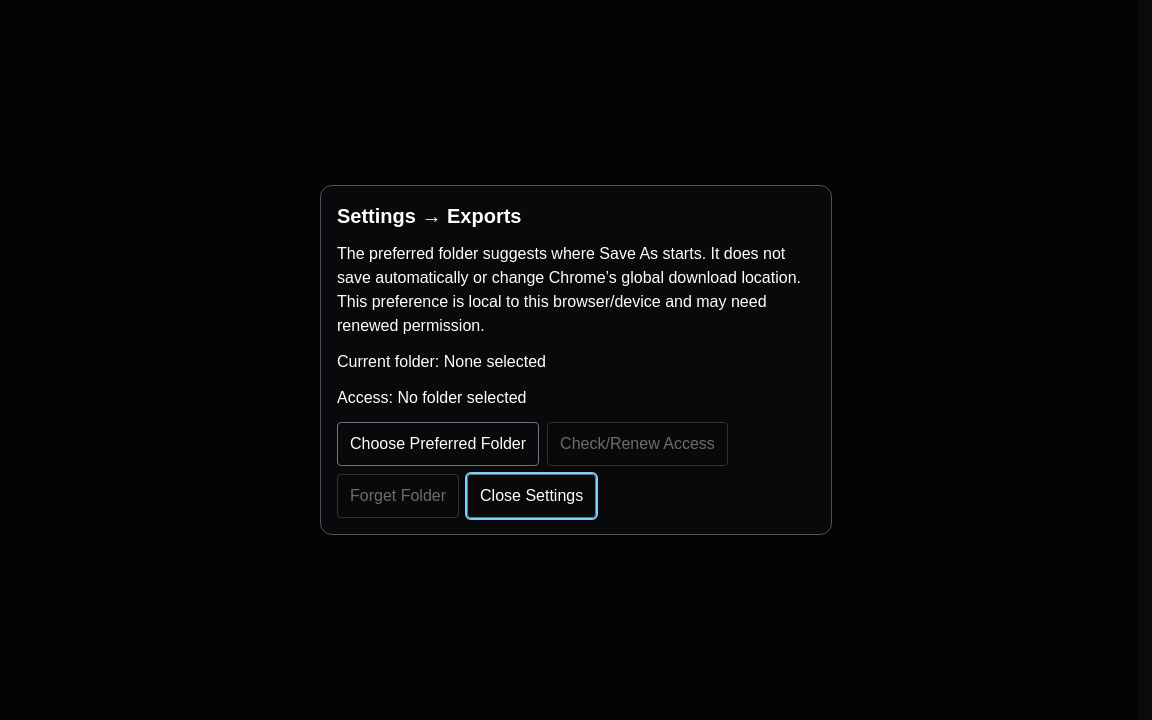
Test: loads without prompting, chooses, renews and forgets only through explicit controls
The image size is (1152, 720).
Expected: the text "global download location" is shown, [337,245,801,334]
Click the button "Choose Preferred Folder". click: [438, 444]
box: [337,422,539,466]
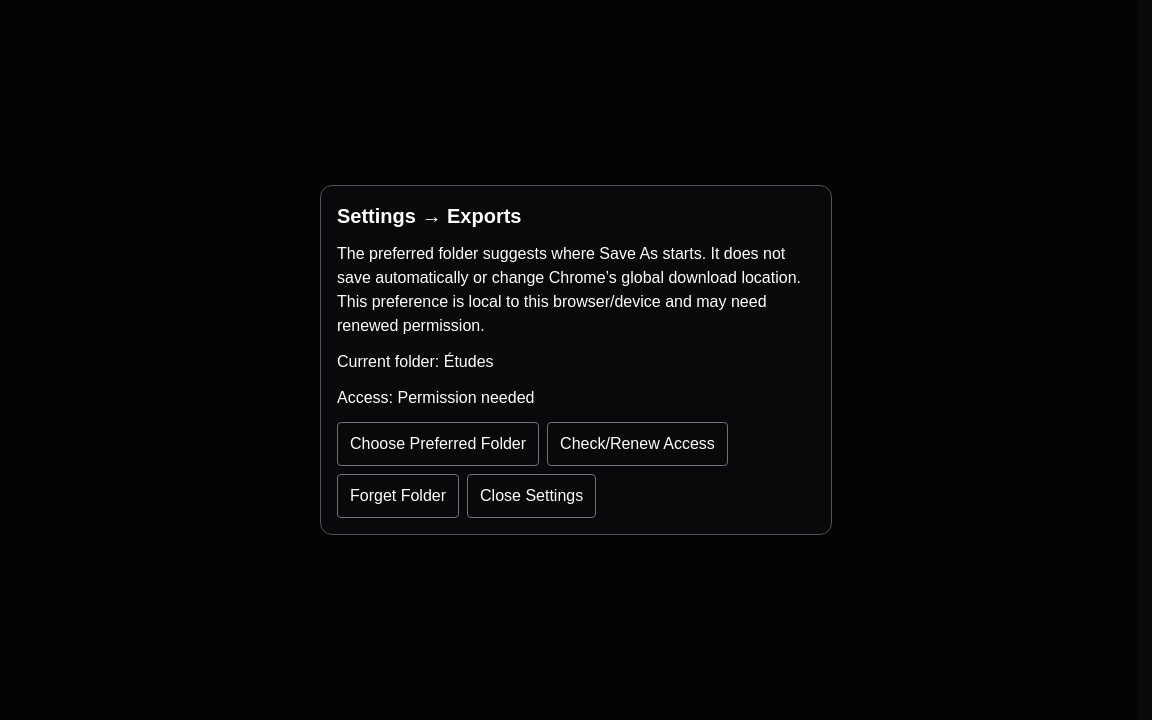
Expected: the text "Current folder: Études" is shown, [337,353,494,370]
Expected: the text "Access: Permission needed" is shown, [337,389,534,406]
Click the button "Check/Renew Access". click: [637, 444]
box: [547,422,728,466]
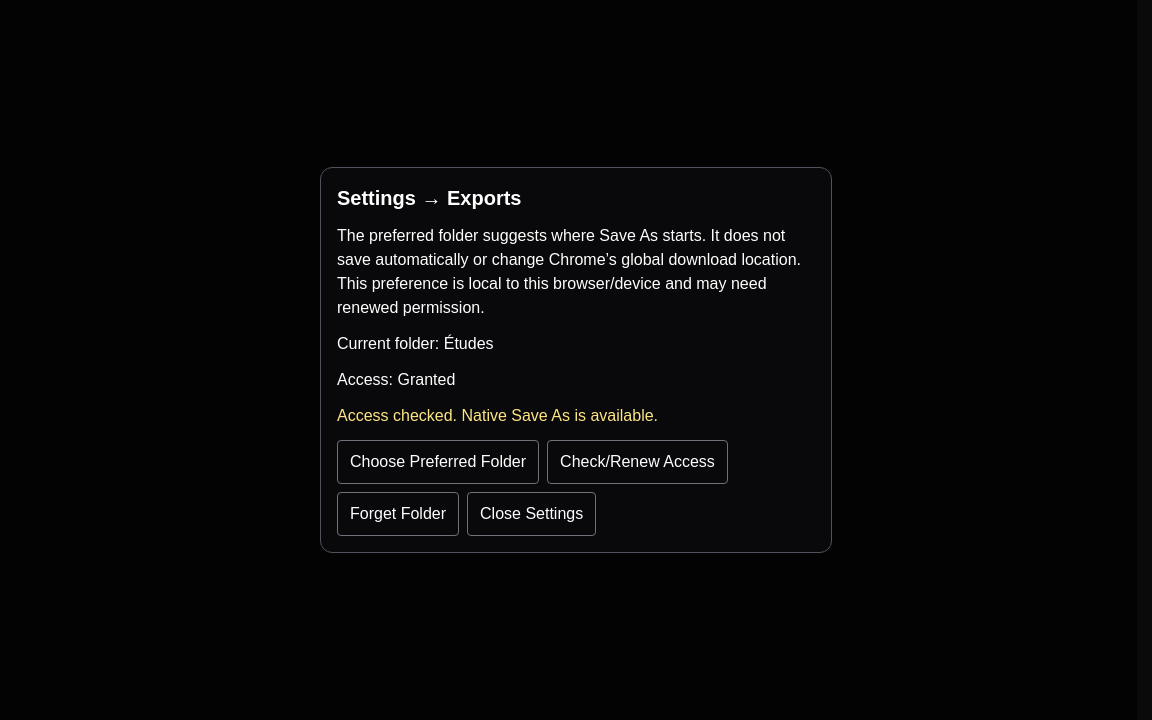
Expected: the text "Access: Granted" is shown, [337,371,455,388]
Click the button "Forget Folder". click: [398, 514]
box: [337,492,459,536]
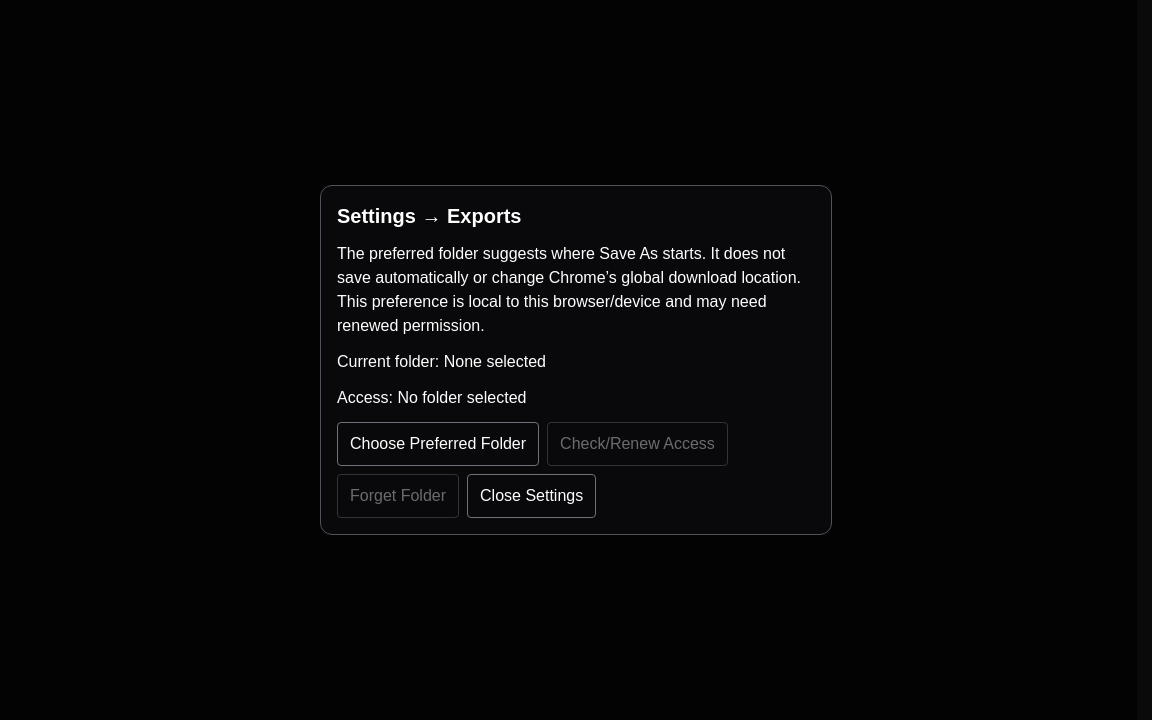
Expected: the text "Current folder: None selected" is shown, [337,353,546,370]
